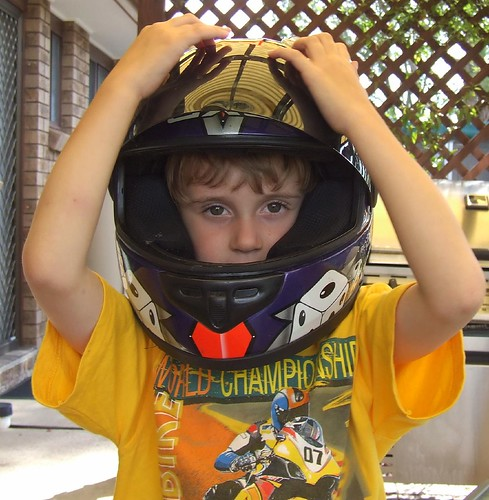helmet: (91, 33, 397, 361)
